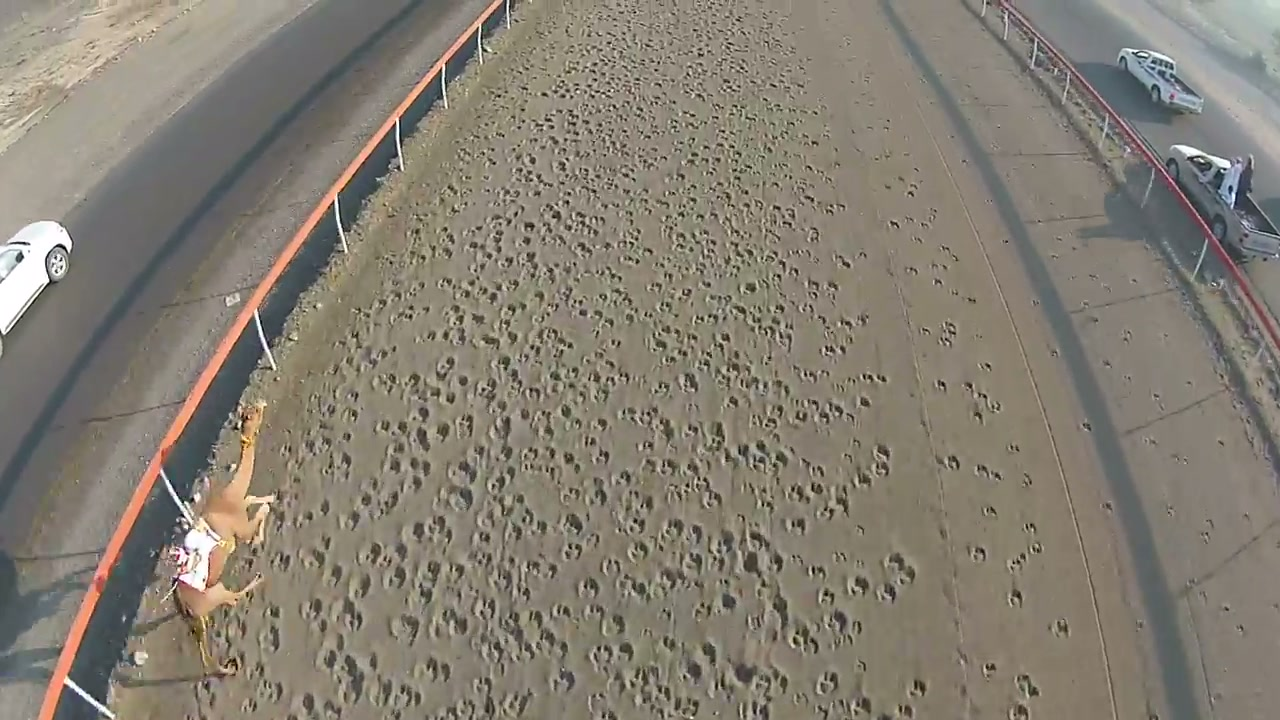animal_foot_print: (198, 34, 931, 717), (768, 137, 1082, 719)
